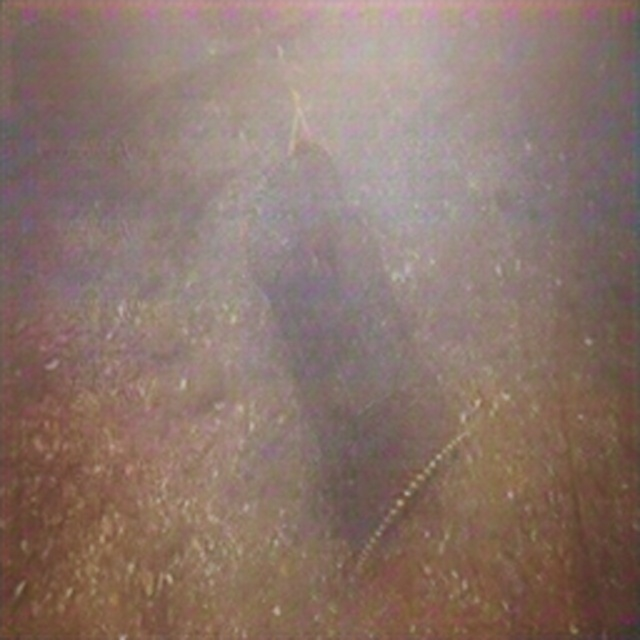mine: (243, 139, 471, 577)
